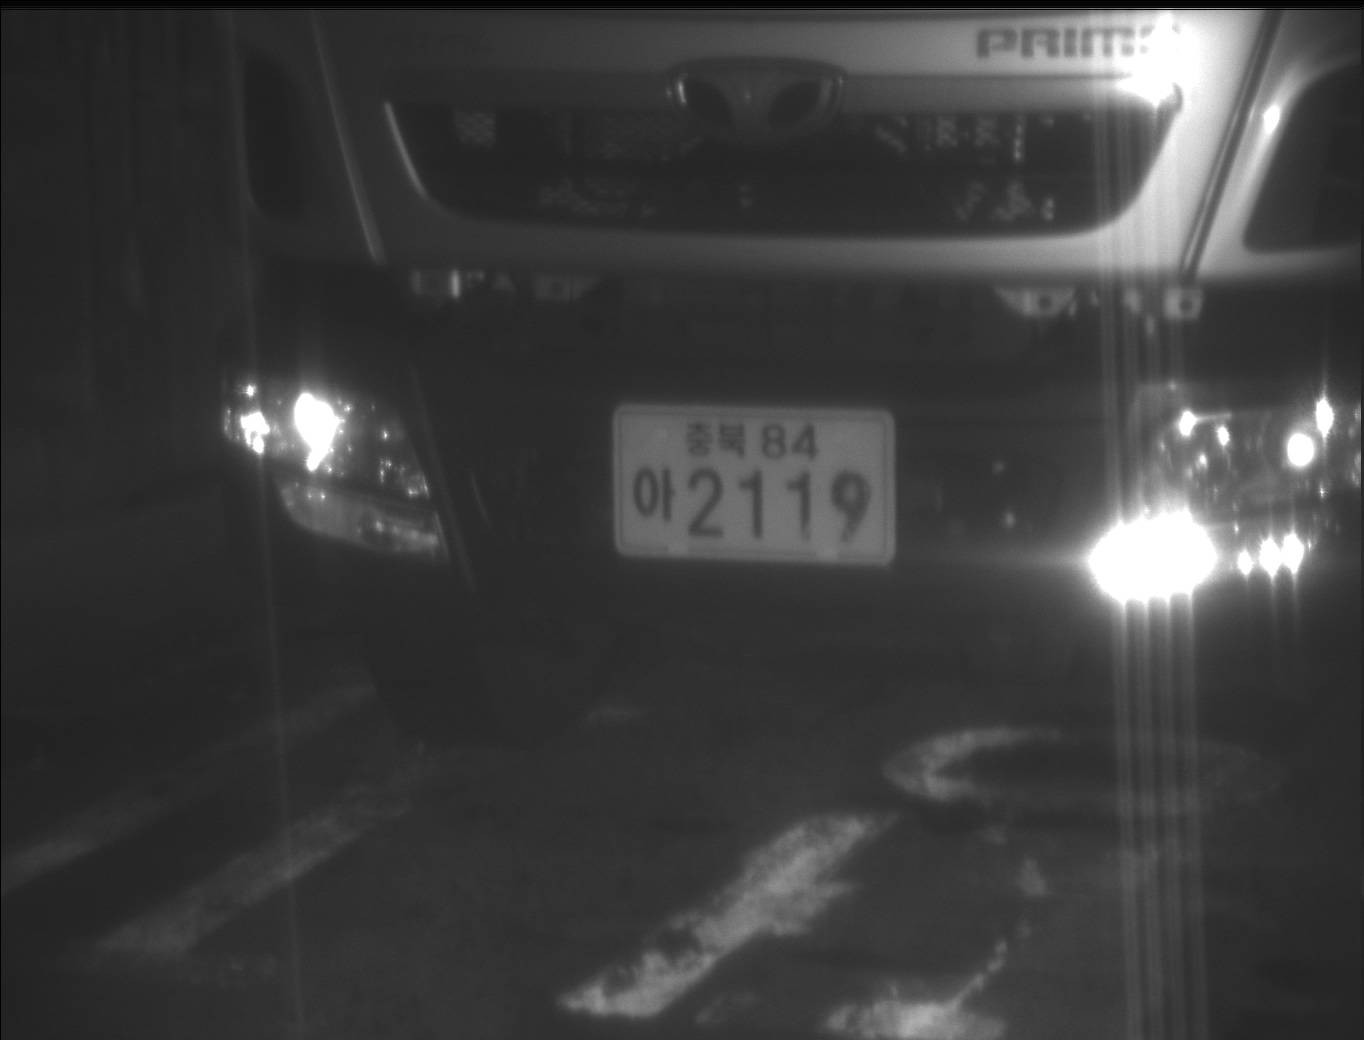car: (189, 1, 1364, 743)
plate: (612, 404, 892, 564)
